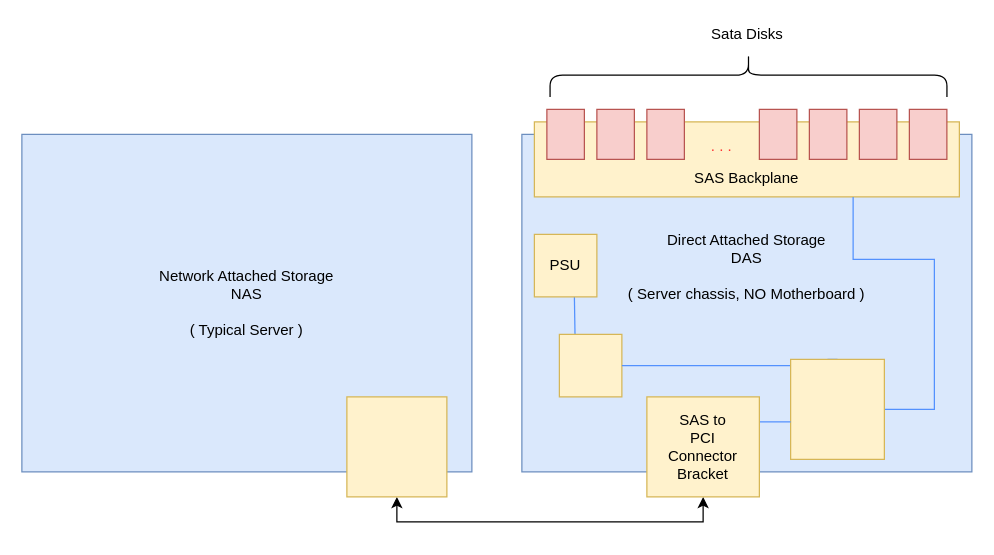
This 994x555 diagram has some shape labels left out. Here are the shapes that lost their labels. From the top down, the centre of each, then its label:
At point (590, 365): "JBOD Module".
At point (836, 408): "SAS Expander".
At point (396, 446): "Host Bus Adapter HBA".
